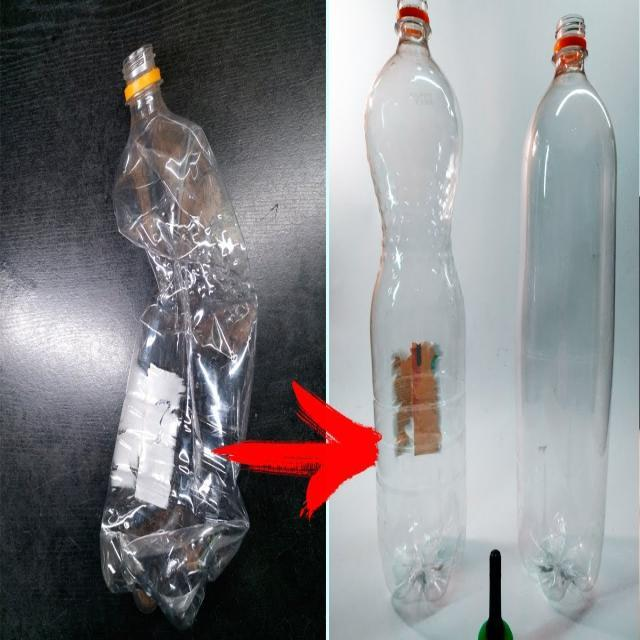Plastic: (99, 47, 260, 634), (362, 0, 470, 631), (516, 15, 617, 620)
